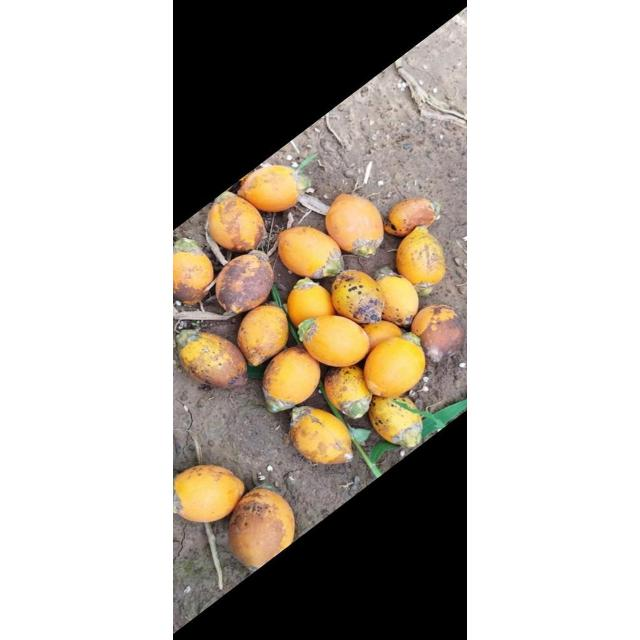good: (228, 486, 296, 568), (176, 329, 248, 389), (173, 465, 245, 523), (362, 334, 426, 396), (287, 407, 353, 465), (300, 314, 370, 368), (262, 346, 321, 410), (215, 253, 273, 314), (278, 227, 344, 279), (325, 199, 385, 255), (236, 304, 288, 366), (395, 226, 445, 290), (208, 196, 264, 252), (412, 304, 466, 362), (330, 270, 386, 324), (368, 394, 422, 446), (323, 364, 373, 420), (238, 165, 298, 211), (374, 268, 420, 328), (173, 240, 214, 304), (287, 277, 337, 329), (386, 198, 438, 238), (362, 321, 402, 352), (176, 328, 202, 350), (174, 236, 204, 254), (251, 478, 279, 494), (302, 343, 322, 365), (213, 191, 234, 203), (431, 201, 442, 219)
